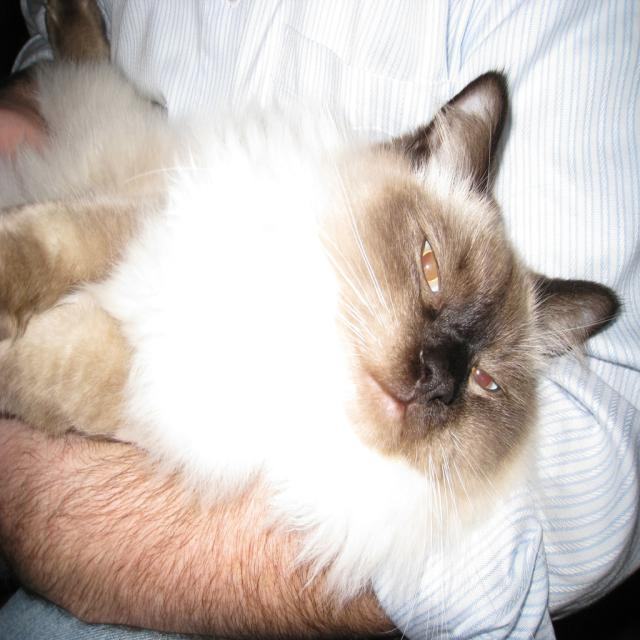Cat: (0, 42, 629, 639)
